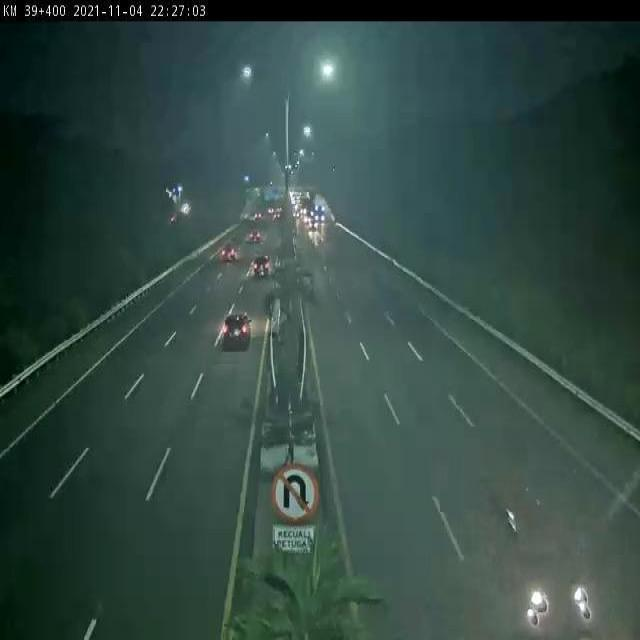car: (486, 479, 595, 627), (220, 311, 253, 349)
